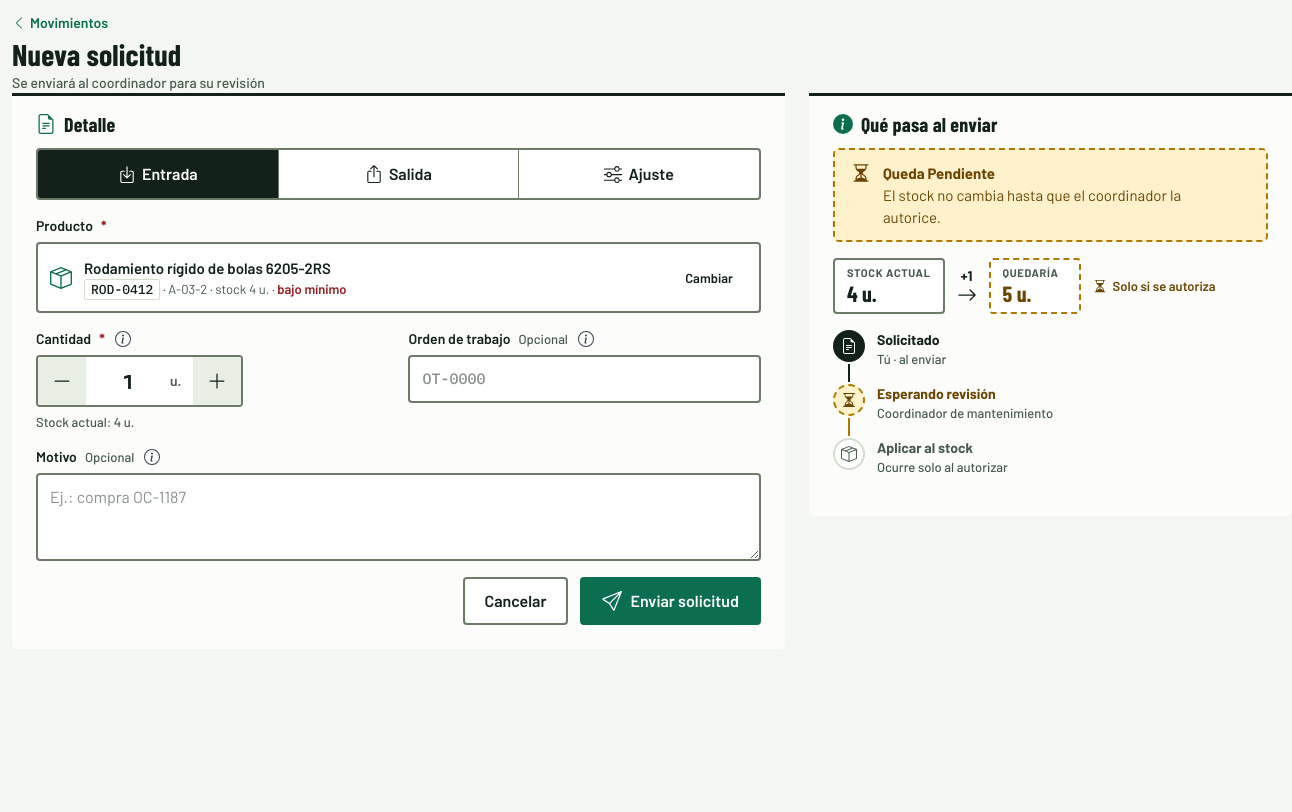
Nueva solicitud › avisa cuando la solicitud se autorizó automáticamente
Expected: the text "Rodamiento rígido de bolas 6205-2RS" is shown, [84, 259, 331, 277]
Click the button "Enviar solicitud" at (671, 601), box [580, 577, 761, 625]
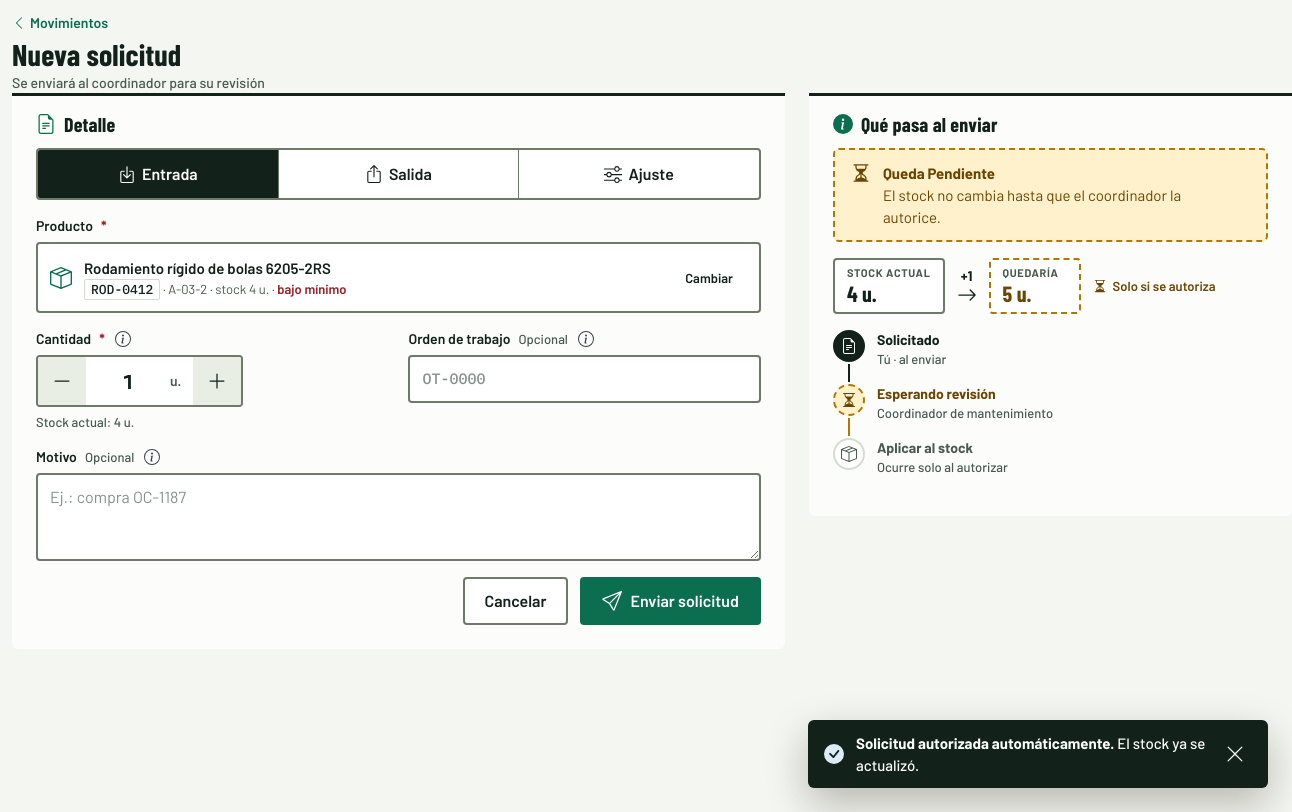
Now the text "Solicitud autorizada automáticamente." is shown, box [856, 734, 1114, 752]
